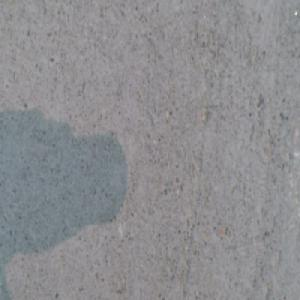Washer: (118, 286, 140, 300)
